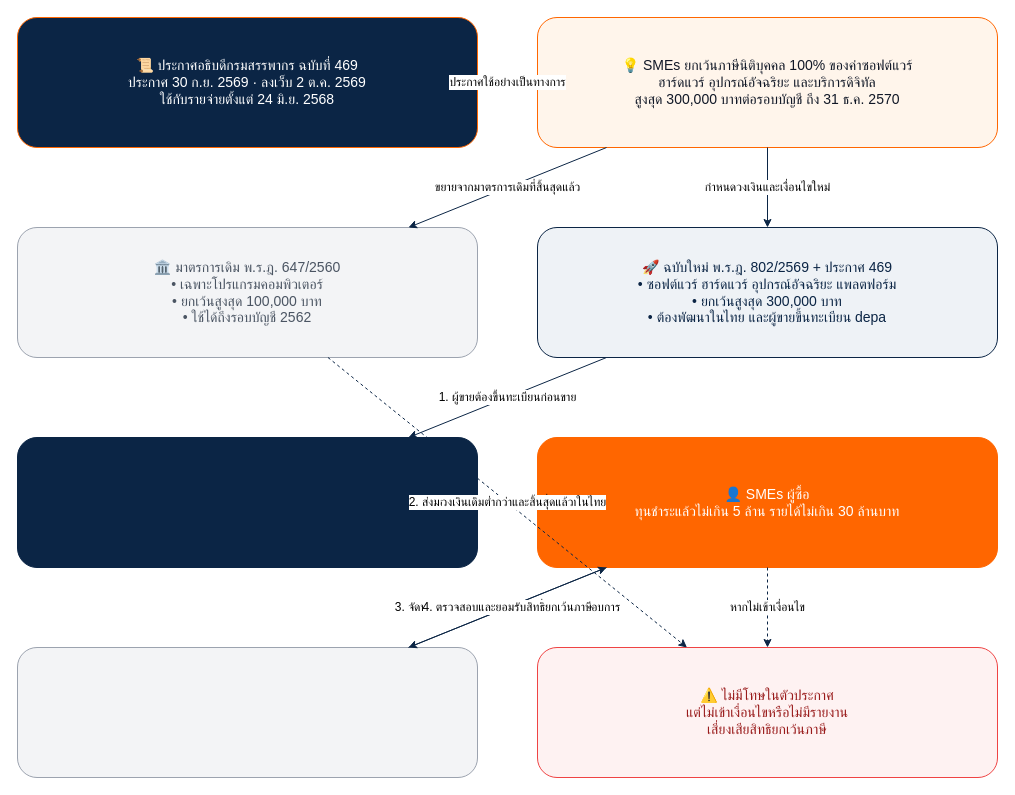
This 1015x795 diagram has some shape labels left out. Each missing label, with the centre of its shape:
"🏛️ กรมสรรพากร เจ้าพนักงานประเมินตรวจรายงาน" goes at (247,712).
"🏢 ผู้ขายซอฟต์แวร์ / ผู้ให้บริการแพลตฟอร์ม ต้องขึ้นทะเบียนบัญชีบริการดิจิทัล depa" goes at (247,502).
